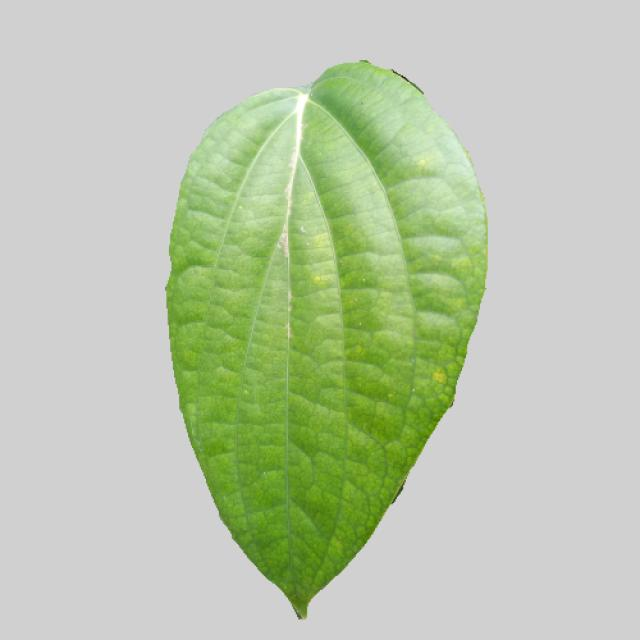healthy: (154, 57, 498, 627)
